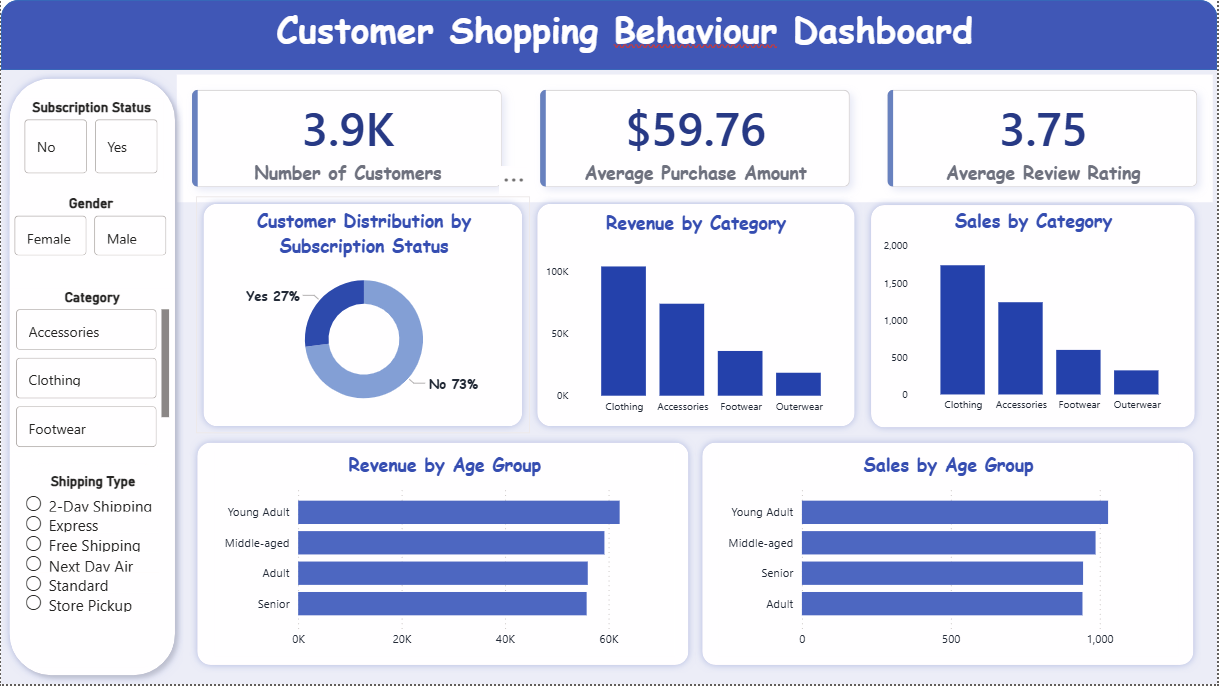

This screenshot's page, from the dashboard's own definition file:
{"tool":"powerbi","page":{"name":"Page 1","canvas":[1280,720],"ordinal":0},"visuals":[{"type":"cardVisual","fields":{"Data":["public customer.Number of Customers","public customer.Average Purchase Amount","public customer.Average Review Rating"]},"box":[180.3,73.7,1100,144.7],"z":0},{"type":"shape","box":[0,0,1280.3,73.7],"z":1000},{"type":"textbox","box":[150,0,1013.2,73.7],"z":2000},{"type":"shape","box":[205.3,206.6,351.3,250],"z":3000},{"type":"donutChart","title":"Customer Distribution by Subscription Status","fields":{"Category":["public customer.subscription_status"],"Y":["CountNonNull(public customer.customer_id)"]},"box":[225,218.4,314.5,225],"z":4000},{"type":"shape","box":[556.6,206.6,350,250],"z":5000},{"type":"shape","box":[907.9,207.9,356.6,250],"z":6000},{"type":"clusteredColumnChart","title":"Revenue by Category","fields":{"Category":["public customer.category"],"Y":["Sum(public customer.purchase_amount)"]},"box":[568.4,219.7,326.3,225],"z":7000},{"type":"clusteredColumnChart","title":"Sales by Category","fields":{"Category":["public customer.category"],"Y":["CountNonNull(public customer.customer_id)"]},"box":[923.7,218.4,326.3,225],"z":8000},{"type":"shape","box":[0,73.7,192.1,646.1],"z":9000},{"type":"advancedSlicerVisual","fields":{"Values":["public customer.gender"]},"box":[9.2,205.3,171.1,69.7],"z":10000},{"type":"advancedSlicerVisual","fields":{"Values":["public customer.subscription_status"]},"box":[19.7,103.9,151.3,84.2],"z":11000},{"type":"advancedSlicerVisual","fields":{"Values":["public customer.category"]},"box":[10.5,303.9,171.1,173.7],"z":12000},{"type":"listSlicer","fields":{"Values":["public customer.shipping_type"]},"box":[10.5,488.2,171.1,214.5],"z":13000},{"type":"shape","box":[730.3,457.9,532.9,250],"z":14000},{"type":"clusteredBarChart","title":"Sales by Age Group","fields":{"Category":["public customer.age_group"],"Y":["CountNonNull(public customer.customer_id)"]},"box":[755.3,475,484.2,215.8],"z":15000},{"type":"shape","box":[198.7,457.9,532.9,250],"z":16000},{"type":"clusteredBarChart","title":"Revenue by Age Group","fields":{"Category":["public customer.age_group"],"Y":["Sum(public customer.purchase_amount)"]},"box":[225,475,484.2,215.8],"z":17000}]}

Visuals, with their boxes in screenshot pixels (x1, y1, x2, y2), scaled from the page's 1280x720 canvas onto the 1219x686 screenshot:
cardVisual - public customer.Number of Customers x public customer.Average Purchase Amount: <box>172,70,1218,208</box>
shape: <box>0,0,1218,70</box>
textbox: <box>143,0,1108,70</box>
shape: <box>196,197,530,435</box>
"Customer Distribution by Subscription Status" donutChart: <box>214,208,514,422</box>
shape: <box>530,197,863,435</box>
shape: <box>865,198,1204,436</box>
"Revenue by Category" clusteredColumnChart: <box>541,209,852,424</box>
"Sales by Category" clusteredColumnChart: <box>880,208,1190,422</box>
shape: <box>0,70,183,685</box>
advancedSlicerVisual - public customer.gender: <box>9,196,172,262</box>
advancedSlicerVisual - public customer.subscription_status: <box>19,99,163,179</box>
advancedSlicerVisual - public customer.category: <box>10,290,173,455</box>
listSlicer - public customer.shipping_type: <box>10,465,173,670</box>
shape: <box>695,436,1203,674</box>
"Sales by Age Group" clusteredBarChart: <box>719,453,1180,658</box>
shape: <box>189,436,697,674</box>
"Revenue by Age Group" clusteredBarChart: <box>214,453,675,658</box>
